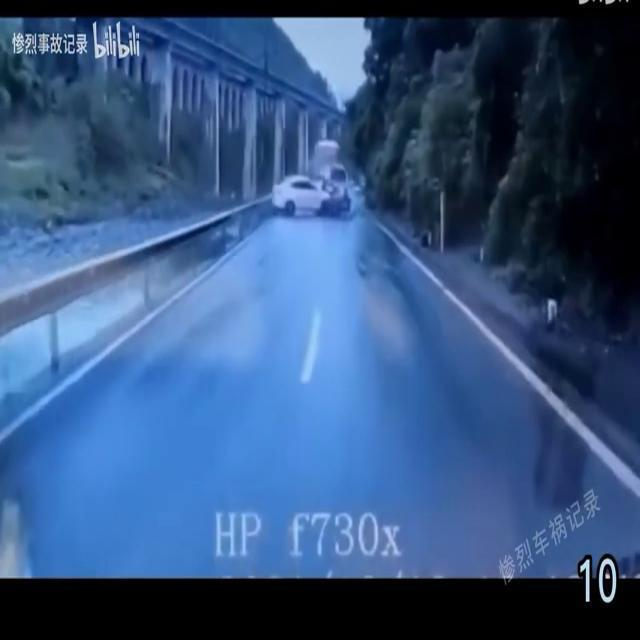accident: (272, 140, 352, 218), (272, 163, 352, 219)
